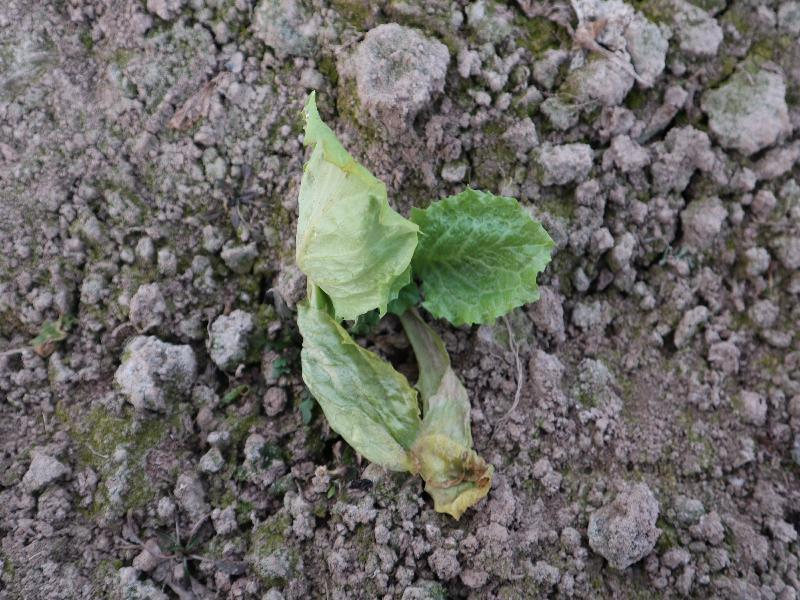lettuce: (294, 87, 555, 518)
